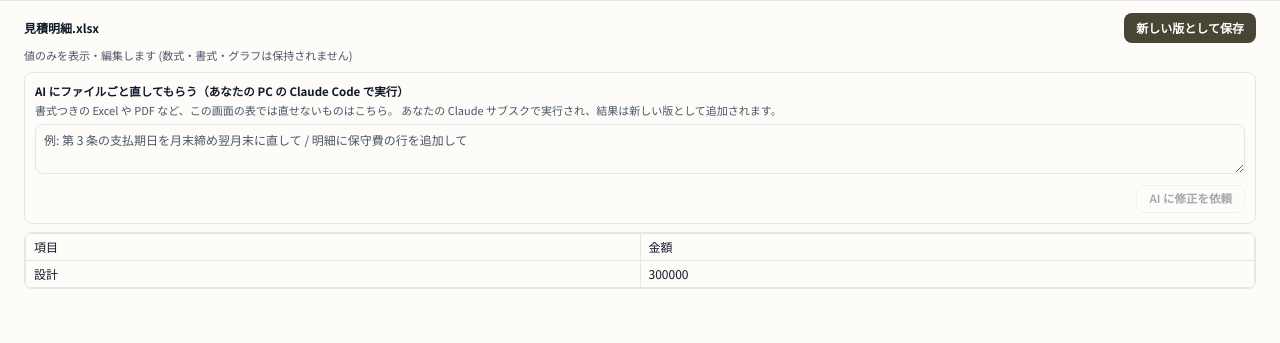
Test case: SheetEditor (GAP-163) › 保存には編集の基底版を添え、他のメンバーが先に保存していた 409 は API の理由を出す (GAP-254)
The image size is (1280, 343).
Step 1. Replace the text in the field named "明細 2行 2列" with "1" → (947,274), box left=640, top=260, right=1254, bottom=286
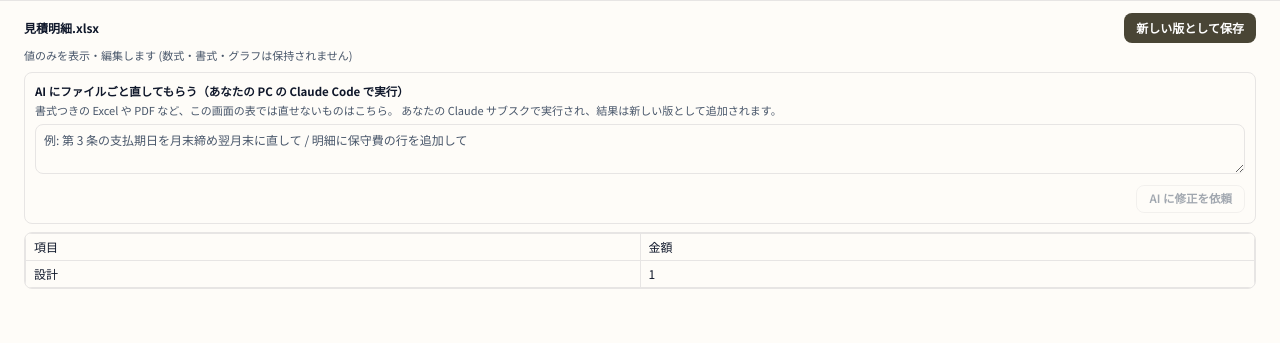
Step 2. Click the button "新しい版として保存" → (1190,28), box left=1124, top=13, right=1256, bottom=43
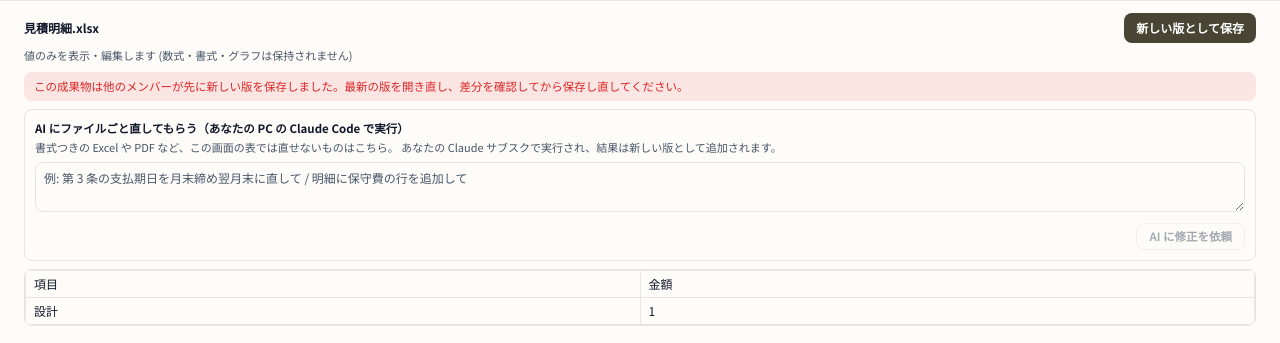
Now the message shows "他のメンバーが先に新しい版を保存しました", box left=34, top=78, right=688, bottom=94
